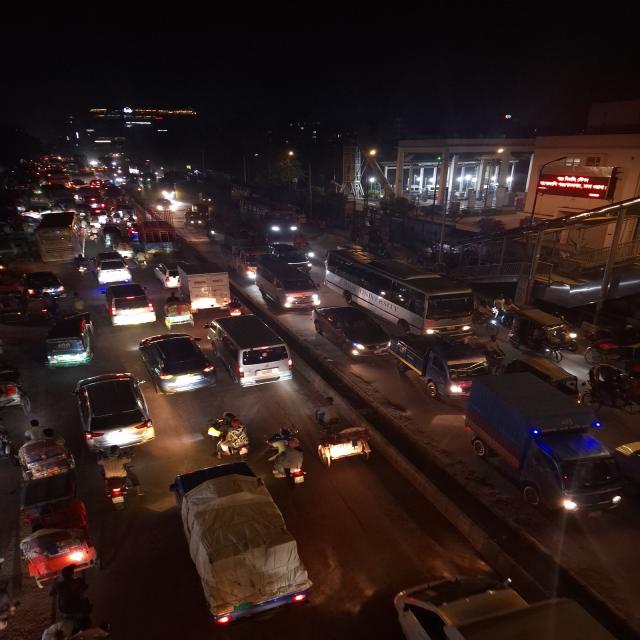bus: (324, 245, 476, 336), (32, 210, 85, 264)
car: (69, 372, 159, 461), (203, 312, 296, 389), (134, 331, 220, 396), (310, 304, 391, 359), (254, 259, 322, 311), (99, 282, 160, 328), (92, 251, 135, 285)
cng: (40, 316, 98, 371), (182, 210, 205, 232)
motorcycle: (93, 446, 146, 512), (264, 426, 308, 488), (204, 410, 252, 462), (72, 253, 90, 279)
pickup_van: (168, 460, 316, 638), (391, 330, 492, 402)
rickshaw: (14, 494, 101, 593), (311, 390, 377, 473), (15, 416, 77, 488), (506, 306, 579, 363), (163, 292, 197, 333)
truck: (462, 368, 628, 520), (176, 260, 234, 312), (131, 220, 184, 256)
